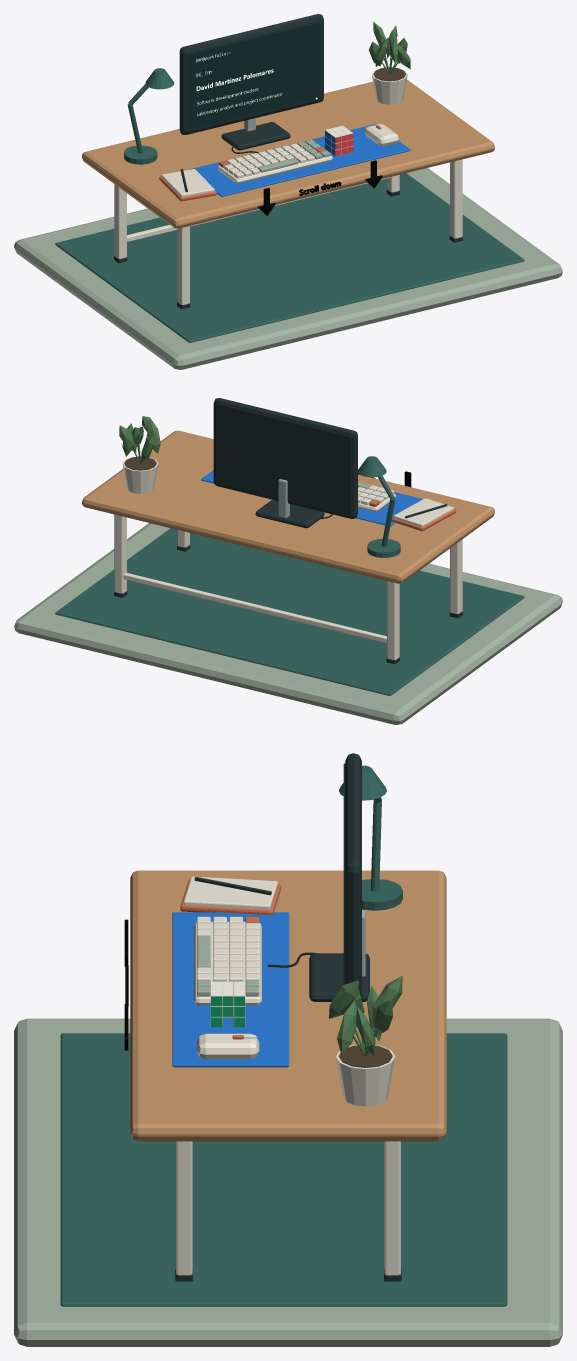
File: desk.glb
The picture shows the model from 3 angles, top to bottom: view 1: azimuth 30°, elevation 25°; view 2: azimuth 150°, elevation 25°; view 3: azimuth 270°, elevation 25°; orthographic projection. The views are drawn at different scales.
Parts seen in each view (by area): view 1: Alfombra de fieltro.001, Tablero · abedul.001, Isla | base biselada.001, Monitor | pantalla.001, Deskmat.001, Monitor | carcasa.001, Monitor | base.001, Pata de escritorio.006, Pata de escritorio.004, Libreta | páginas.001, Pata de escritorio.005, Maceta.001 (+5 smaller); view 2: Alfombra de fieltro.001, Tablero · abedul.001, Isla | base biselada.001, Monitor | carcasa.001, Travesaño trasero.001, Monitor | base.001, Pata de escritorio.005, Pata de escritorio.007, Pata de escritorio.004, Deskmat.001, Libreta | páginas.001, Maceta.001 (+2 smaller); view 3: Alfombra de fieltro.001, Isla | base biselada.001, Tablero · abedul.001, Deskmat.001, Monitor | carcasa.001, Libreta | páginas.001, Pata de escritorio.006, Pata de escritorio.007, Maceta.001, Monitor | base.001, Ratón | cuerpo.001, Teclado | cuerpo.001 (+4 smaller).
Part boxes in pixels (box(x1,y1,x2,y2)): Alfombra de fieltro.001: box(55, 173, 524, 342); Tablero · abedul.001: box(82, 79, 494, 228); Isla | base biselada.001: box(14, 168, 562, 369); Monitor | pantalla.001: box(188, 22, 320, 129); Deskmat.001: box(188, 124, 410, 196); Monitor | carcasa.001: box(179, 14, 323, 134); Monitor | base.001: box(221, 122, 290, 150); Pata de escritorio.006: box(450, 159, 462, 238); Pata de escritorio.004: box(177, 226, 189, 304); Libreta | páginas.001: box(161, 169, 214, 197); Pata de escritorio.005: box(114, 184, 126, 258); Maceta.001: box(372, 67, 407, 104); Alfombra de fieltro.001: box(55, 528, 524, 695); Tablero · abedul.001: box(82, 430, 494, 583); Isla | base biselada.001: box(14, 523, 562, 724); Monitor | carcasa.001: box(213, 398, 357, 518); Travesaño trasero.001: box(123, 572, 386, 643); Monitor | base.001: box(255, 500, 324, 528); Pata de escritorio.005: box(387, 581, 399, 659); Pata de escritorio.007: box(114, 514, 126, 593); Pata de escritorio.004: box(450, 539, 462, 613); Deskmat.001: box(201, 470, 422, 526); Libreta | páginas.001: box(393, 498, 453, 526); Maceta.001: box(122, 456, 158, 493); Alfombra de fieltro.001: box(60, 1033, 507, 1306); Isla | base biselada.001: box(14, 1018, 562, 1346); Tablero · abedul.001: box(130, 870, 446, 1140); Deskmat.001: box(172, 912, 289, 1067); Monitor | carcasa.001: box(345, 753, 361, 999); Libreta | páginas.001: box(183, 876, 277, 909); Pata de escritorio.006: box(176, 1141, 192, 1275); Pata de escritorio.007: box(384, 1141, 400, 1275); Maceta.001: box(336, 1045, 395, 1106); Monitor | base.001: box(309, 953, 369, 1001); Ratón | cuerpo.001: box(197, 1033, 259, 1059); Teclado | cuerpo.001: box(194, 921, 261, 1005).
Bounding box in the file's own units: 8 × 4.42 × 5.9.
